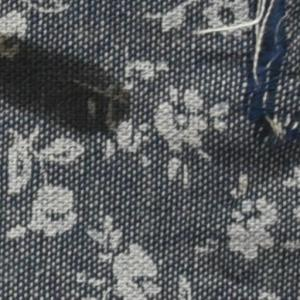Damage: (227, 1, 300, 147)
Stain: (1, 33, 137, 148), (206, 138, 300, 180)
